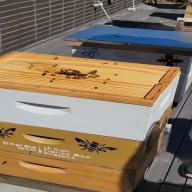Bee: (52, 66, 104, 82)
